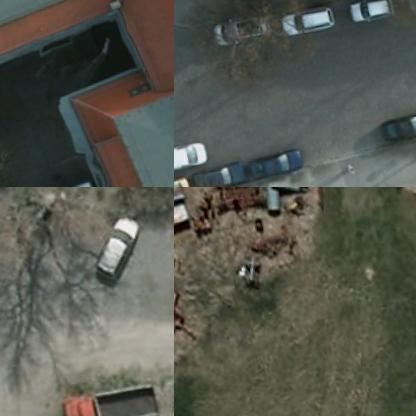car: (82, 200, 158, 287), (213, 9, 278, 58), (283, 0, 342, 42), (253, 143, 314, 180), (195, 154, 260, 186), (174, 136, 216, 178), (382, 100, 415, 145), (350, 0, 401, 25), (174, 172, 199, 186)
truck: (60, 369, 172, 415)
van: (18, 157, 113, 186)
